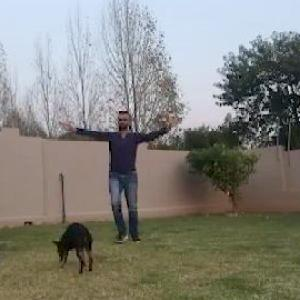takeoff: (47, 90, 176, 252)
